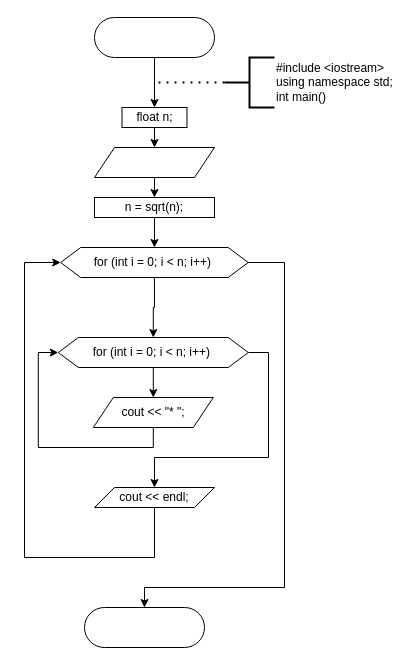
This 411x665 diagram has some shape labels left out. The centre of each missing label's shape, as x and y in pixels:
cin >> n;: [154,162]
Конец: [144,627]
Начало: [154,37]
